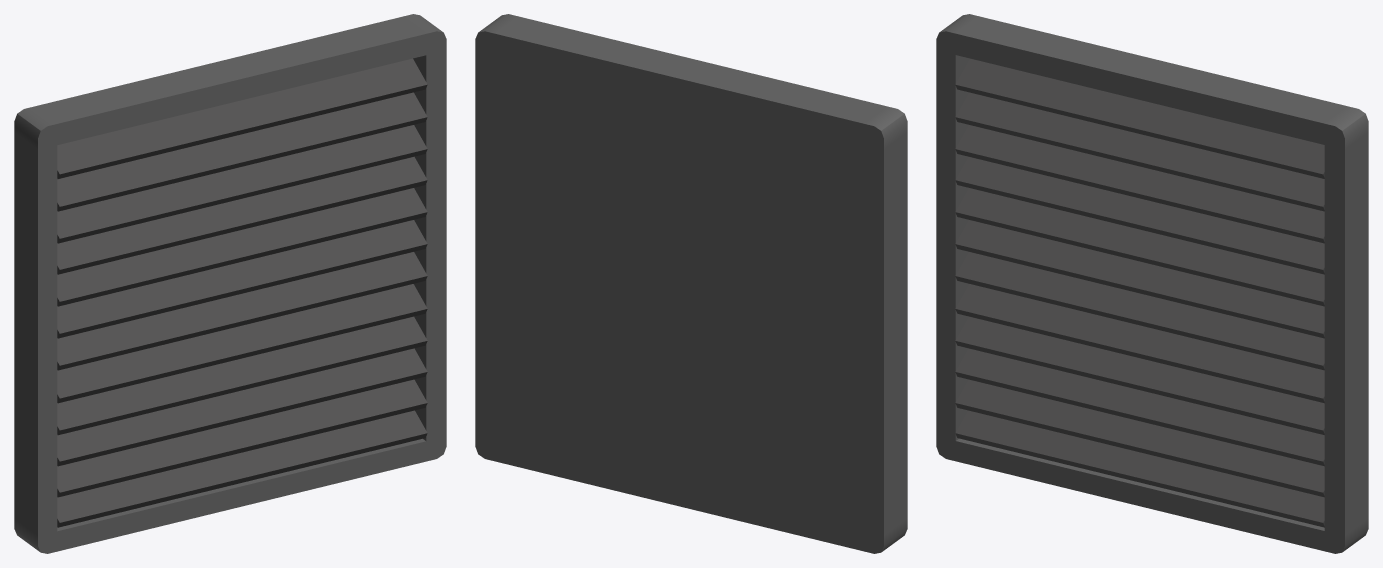
The model's file is Grata.fbx.
3 renders of one model, left to right at view 1: azimuth 30°, elevation 25°; view 2: azimuth 150°, elevation 25°; view 3: azimuth 330°, elevation 25°, orthographic.
Visible parts, largest first — view 1: Base, pCube2, pCube10, pCube4, pCube5, pCube7, pCube11, pCube9, pCube8, pCube6, pCube12, pCube13 (+1 smaller); view 2: Base; view 3: Base, pCube2, pCube10, pCube4, pCube5, pCube7, pCube11, pCube9, pCube8, pCube6, pCube12, pCube13 (+1 smaller).
Part boxes in pixels (x1,y1,x2,y2): Base: [14, 14, 446, 553]; pCube2: [57, 58, 427, 178]; pCube10: [57, 284, 427, 403]; pCube4: [57, 92, 427, 211]; pCube5: [57, 125, 427, 243]; pCube7: [57, 188, 427, 306]; pCube11: [57, 316, 427, 435]; pCube9: [57, 252, 427, 370]; pCube8: [57, 220, 427, 338]; pCube6: [57, 156, 427, 274]; pCube12: [57, 348, 427, 466]; pCube13: [57, 379, 427, 497]; Base: [475, 14, 907, 553]; Base: [936, 14, 1368, 553]; pCube2: [955, 58, 1324, 178]; pCube10: [955, 284, 1324, 403]; pCube4: [955, 92, 1324, 211]; pCube5: [955, 125, 1324, 243]; pCube7: [955, 188, 1324, 306]; pCube11: [955, 316, 1324, 434]; pCube9: [955, 252, 1324, 370]; pCube8: [955, 220, 1324, 338]; pCube6: [955, 156, 1324, 274]; pCube12: [955, 348, 1324, 466]; pCube13: [955, 379, 1324, 497].
Size of the model in its own units: 0.5 by 0.5 by 0.0531.
